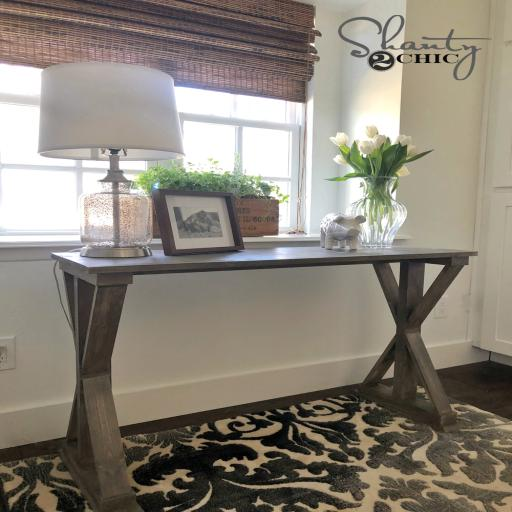desk: (50, 247, 478, 512)
wall: (0, 241, 479, 450), (394, 0, 490, 250), (305, 0, 407, 234)
